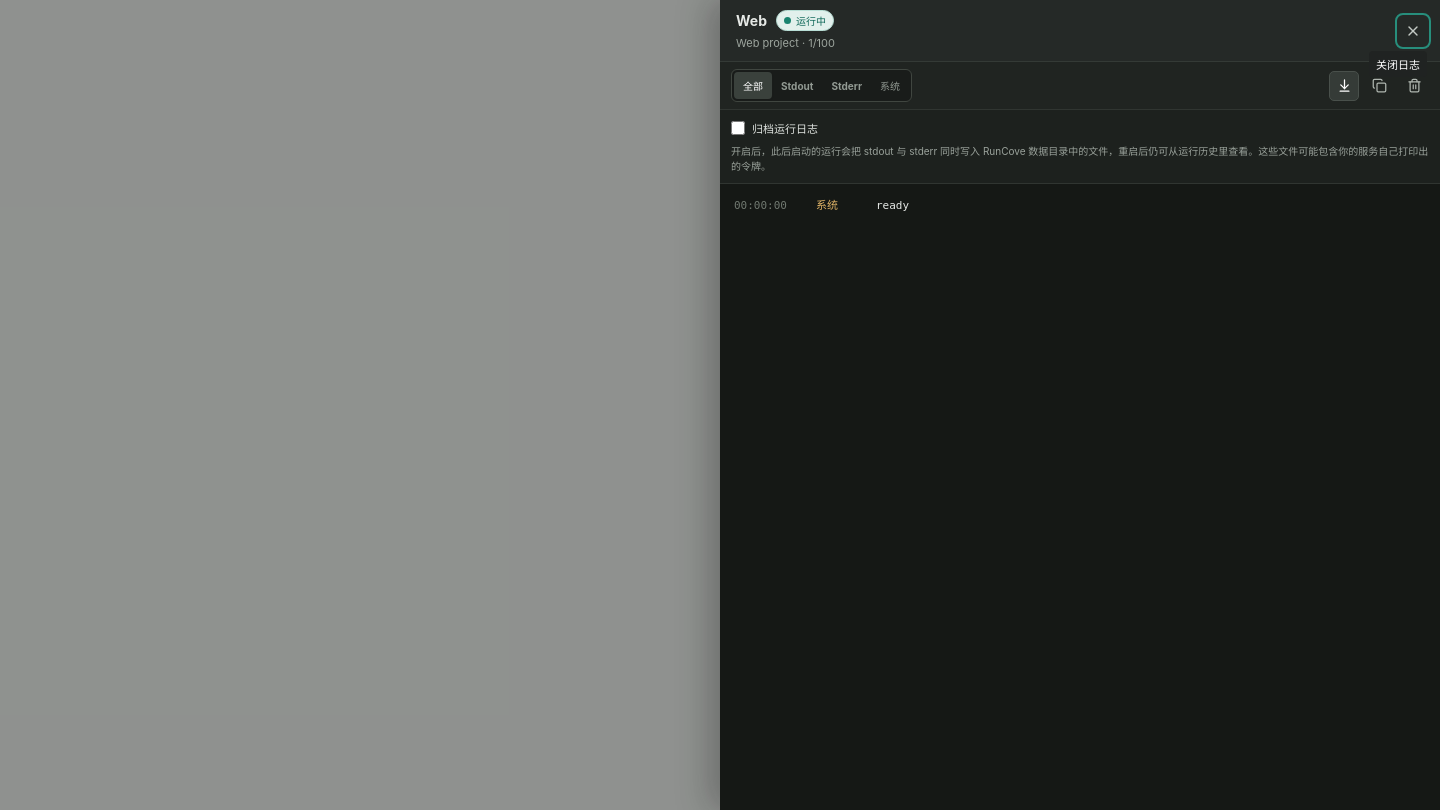
Test: LogDrawer failures › localizes system stream labels and clipboard availability failures
The image size is (1440, 810).
Expected: the text "ready" is shown, [876,199,909,212]
Expected: the number of buttons "系统" is 2, [871,72,909,99]; [816,199,838,212]
Click the button named "复制当前日志" at {"x": 1379, "y": 86}, box [1364,70,1394,100]
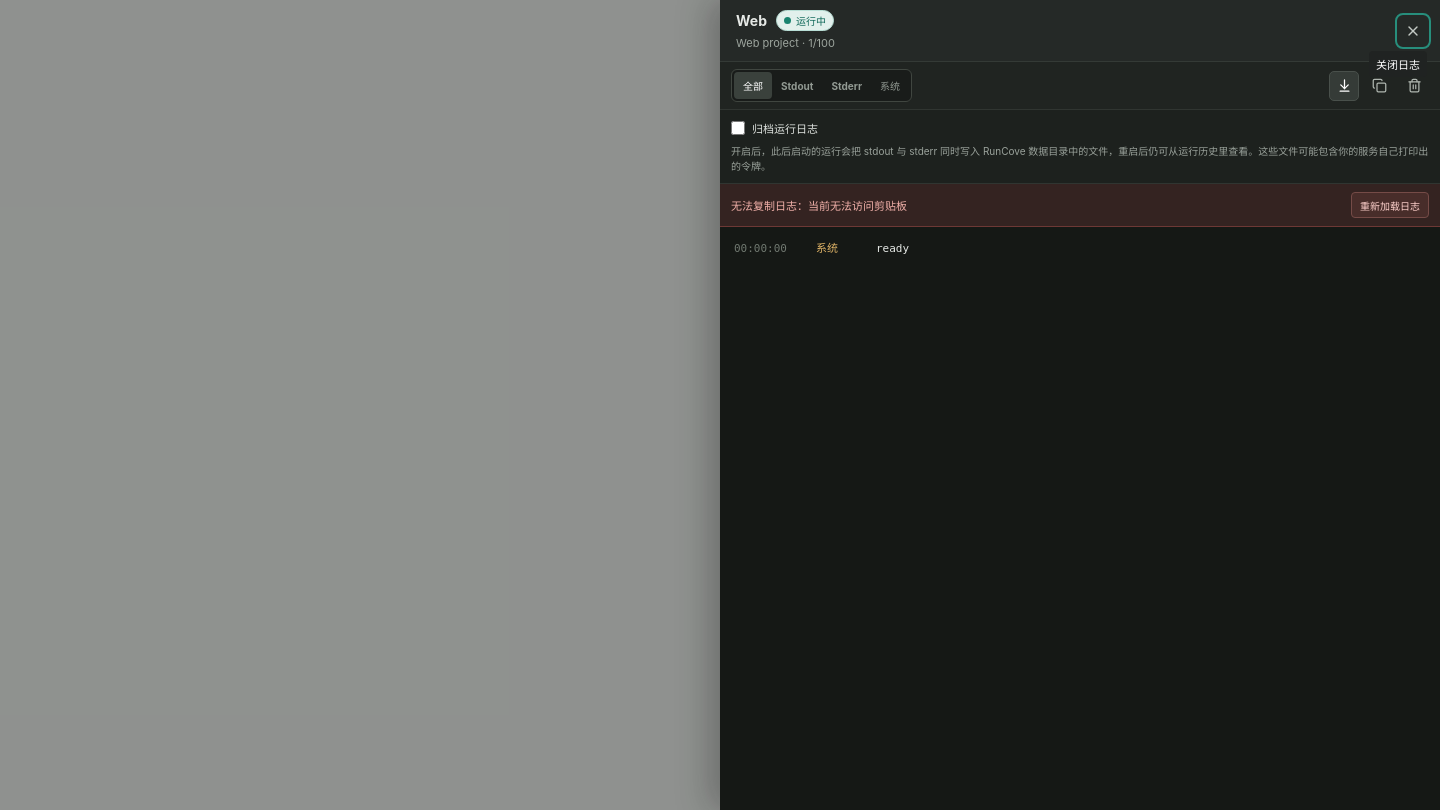
Expected: the message shows "无法复制日志：当前无法访问剪贴板", [731,199,907,213]
